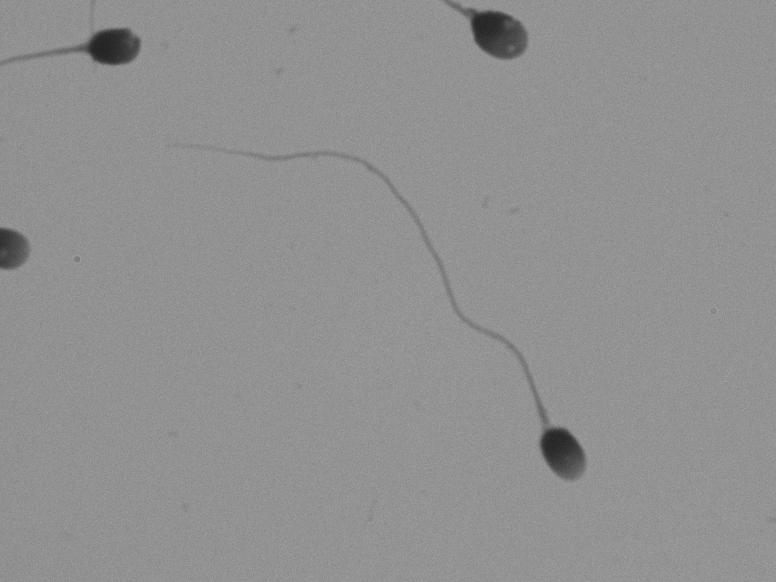Abnormal: (408, 4, 556, 85)
Normal: (128, 115, 595, 512)
